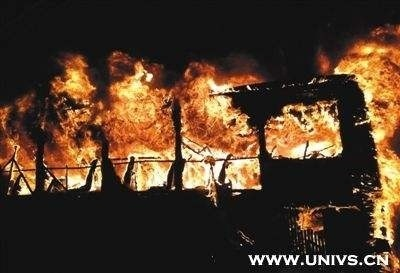fire: (15, 50, 375, 202)
